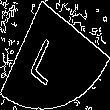L_NE: (35, 25, 75, 85)
